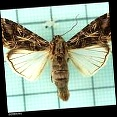Spodoptera litura: (4, 13, 113, 102)
